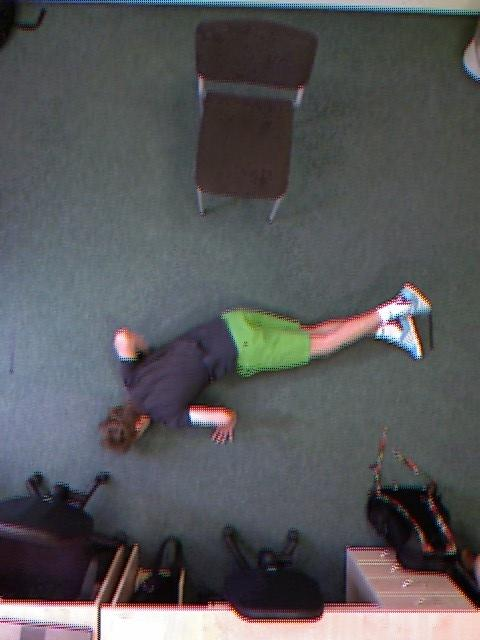fall: (191, 142, 330, 603)
